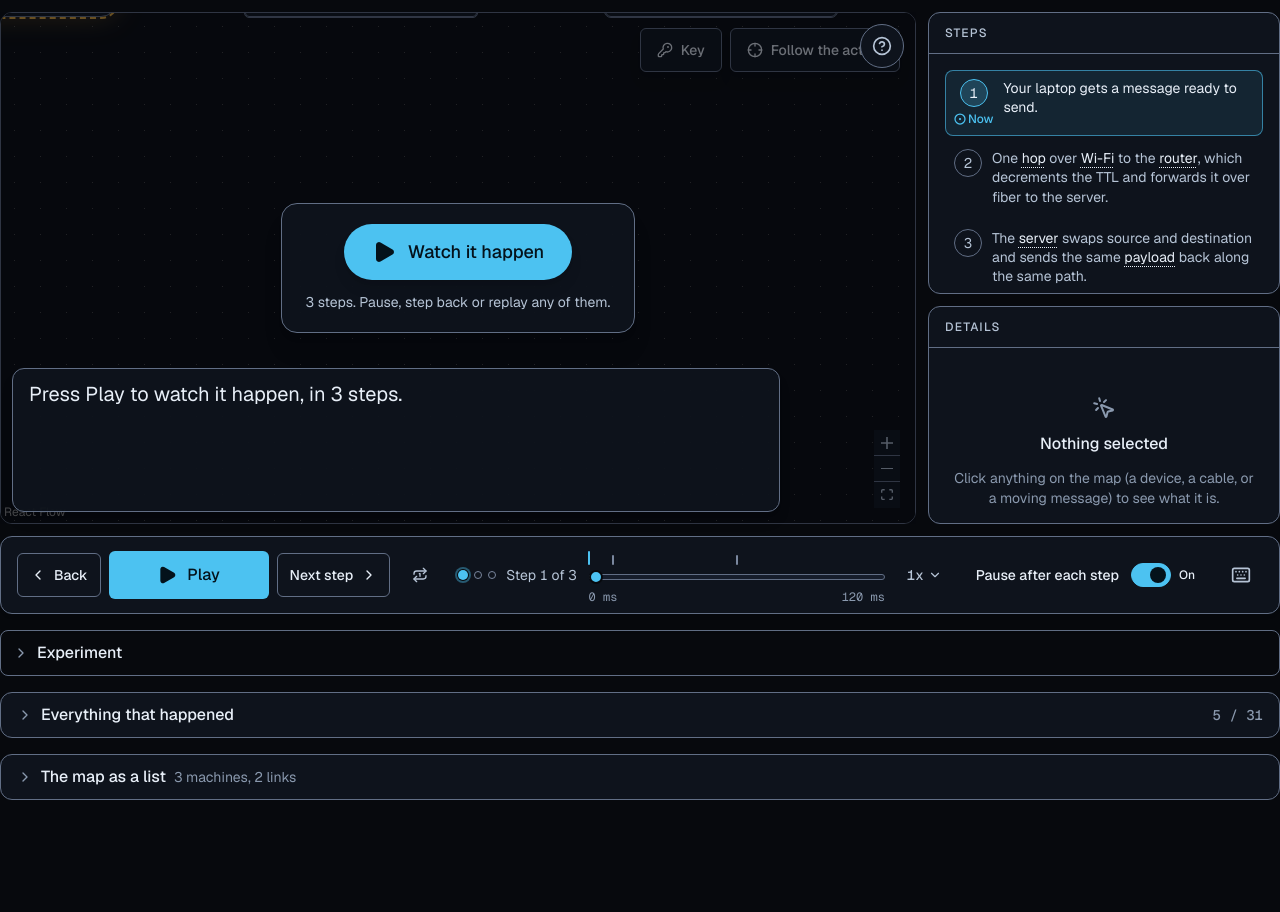
Experiment › is closed, and not mounted, in Simple
Expected: the text "Experiment" is shown, [37,642,122,663]
Expected: the text "message size knob" is not shown
Click the heading "Experiment" at (68, 652), box [13,642,122,663]
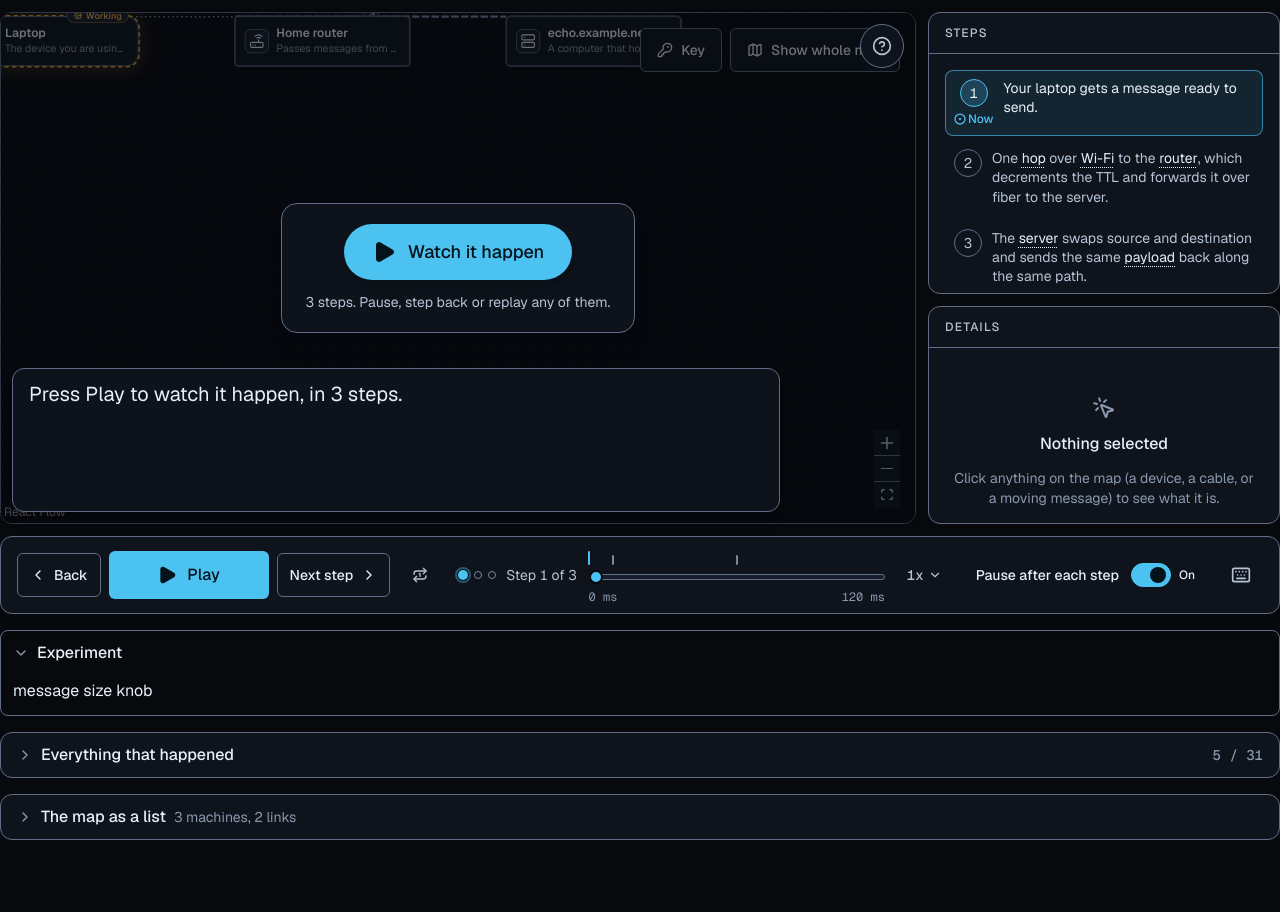
Now the text "message size knob" is shown, box [13,680,153,701]
